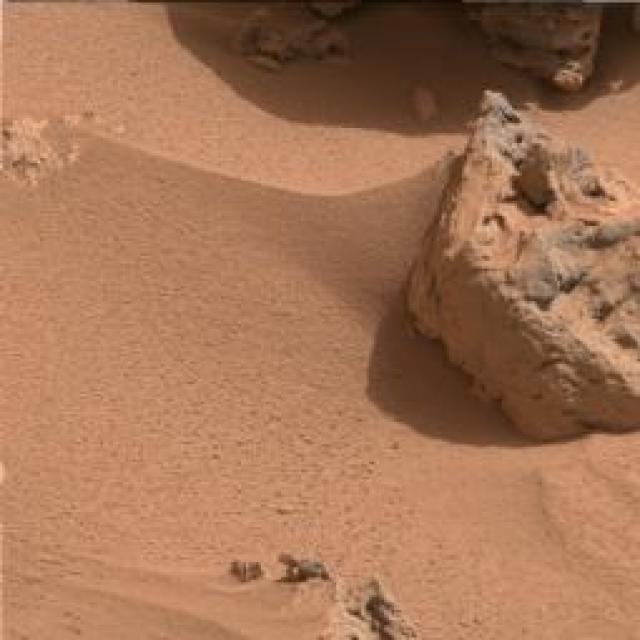rock: (400, 88, 640, 442), (457, 0, 612, 93), (228, 6, 358, 72), (329, 573, 425, 640)
